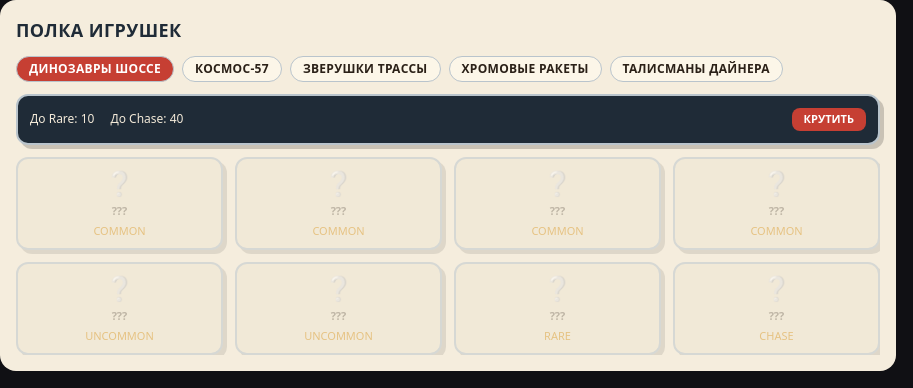
Scenario: ToyShelf (C4/M2) › клик Spin вызывает pullPrize и обновляет pity-счётчик из ответа
This screenshot has width=913, height=388.
Click the button with test id "prize-machine-spin": click(829, 119) [792,108,866,131]
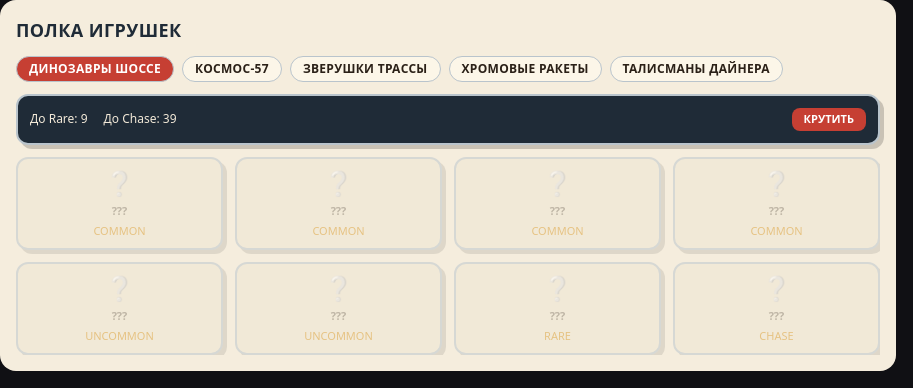
Expected: the text with test id "prize-machine-pity-rare" shows "9", [81,110,88,127]
